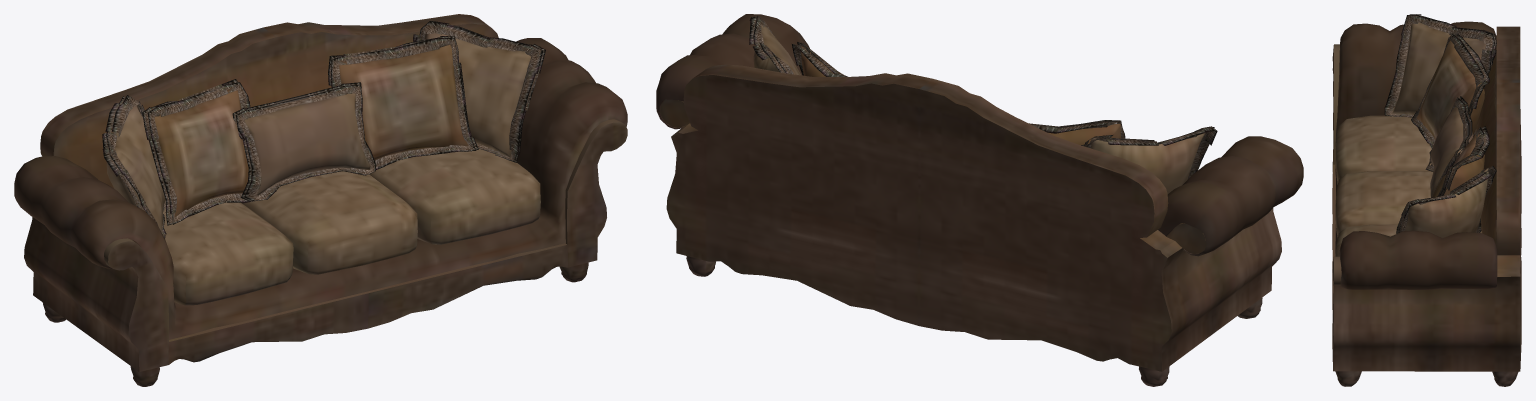
The model's file is sofa-03.lite.654621a0.glb.
3 views of the same model, side by side, from view 1: azimuth 30°, elevation 25°; view 2: azimuth 150°, elevation 25°; view 3: azimuth 270°, elevation 25° (orthographic). The views are drawn at different scales.
Visible parts, largest first — view 1: model; view 2: model; view 3: model.
Part boxes in pixels (x1,y1,x2,y2): model: [14, 14, 627, 386]; model: [656, 14, 1303, 386]; model: [1332, 14, 1521, 386].
Size of the model in its own units: 2.73 by 1.12 by 0.9251.
Materials: 2 (2 with a texture image).
